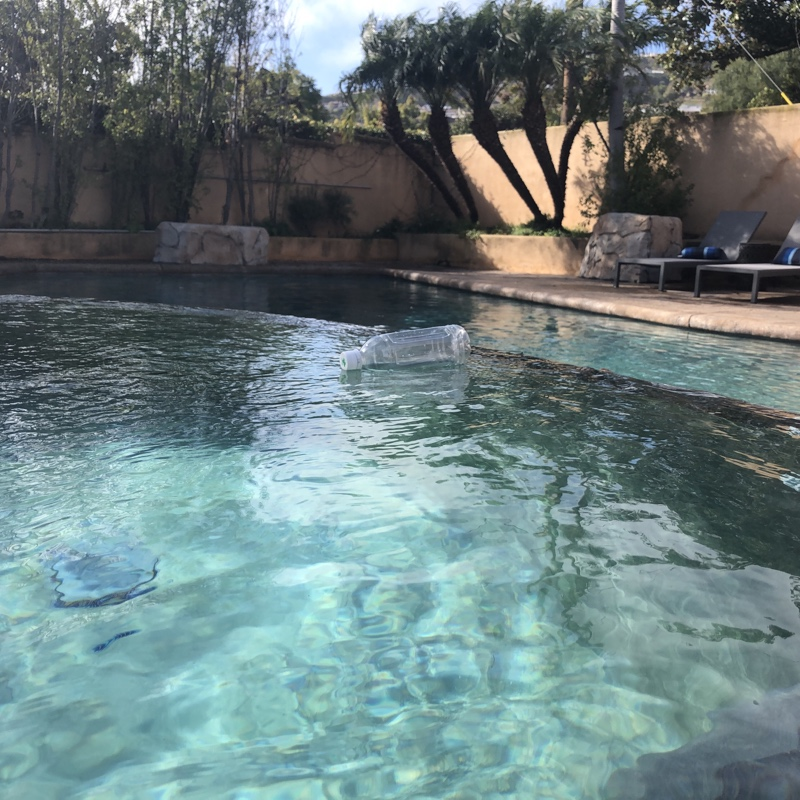Plastic Bottle: (337, 323, 471, 375)
